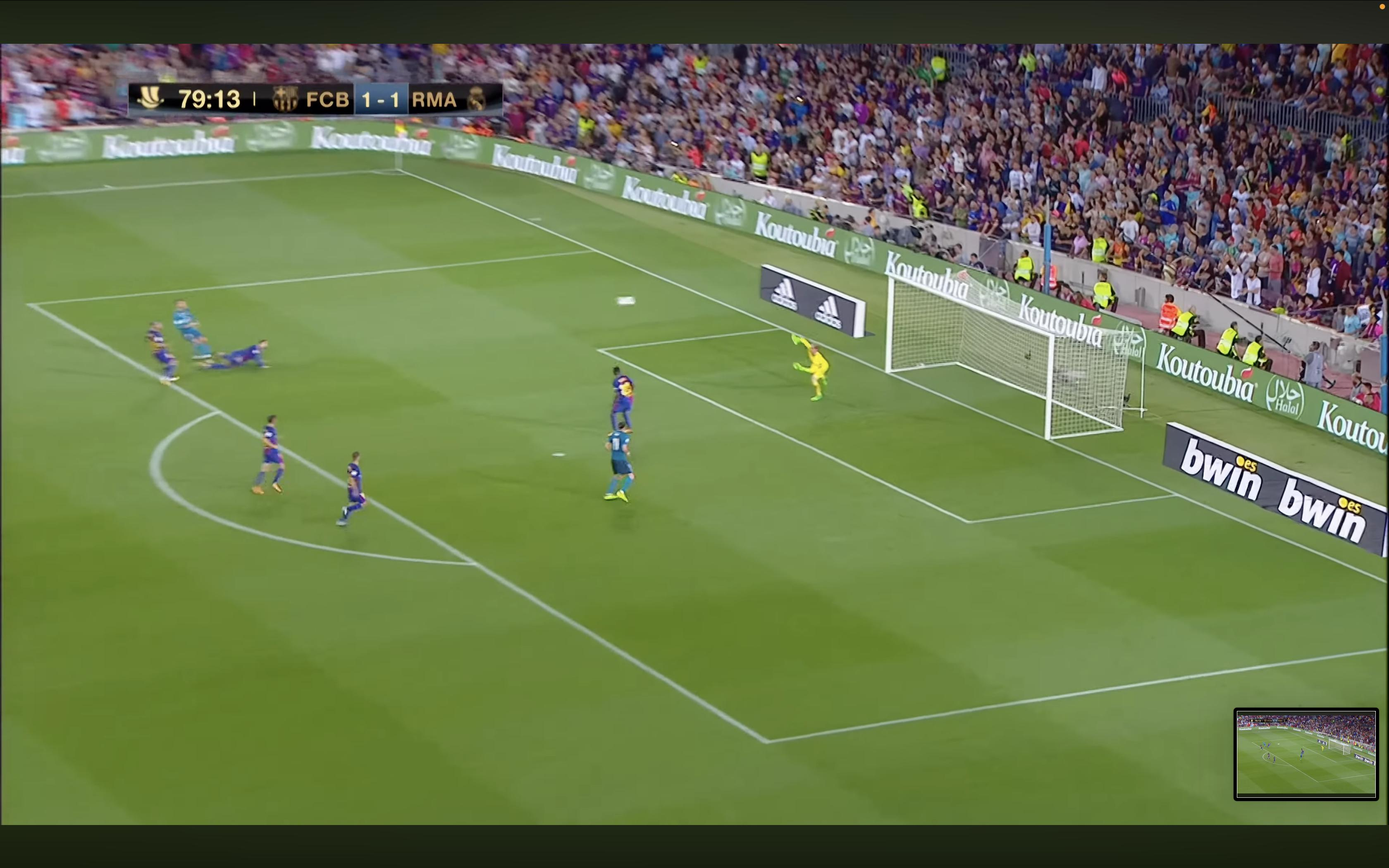ball: (617, 296, 635, 305)
goalkeeper: (793, 334, 829, 401)
player: (251, 415, 284, 494), (173, 300, 212, 362), (604, 425, 634, 501), (337, 452, 367, 527), (146, 322, 179, 384), (204, 340, 269, 370), (611, 367, 634, 431)
